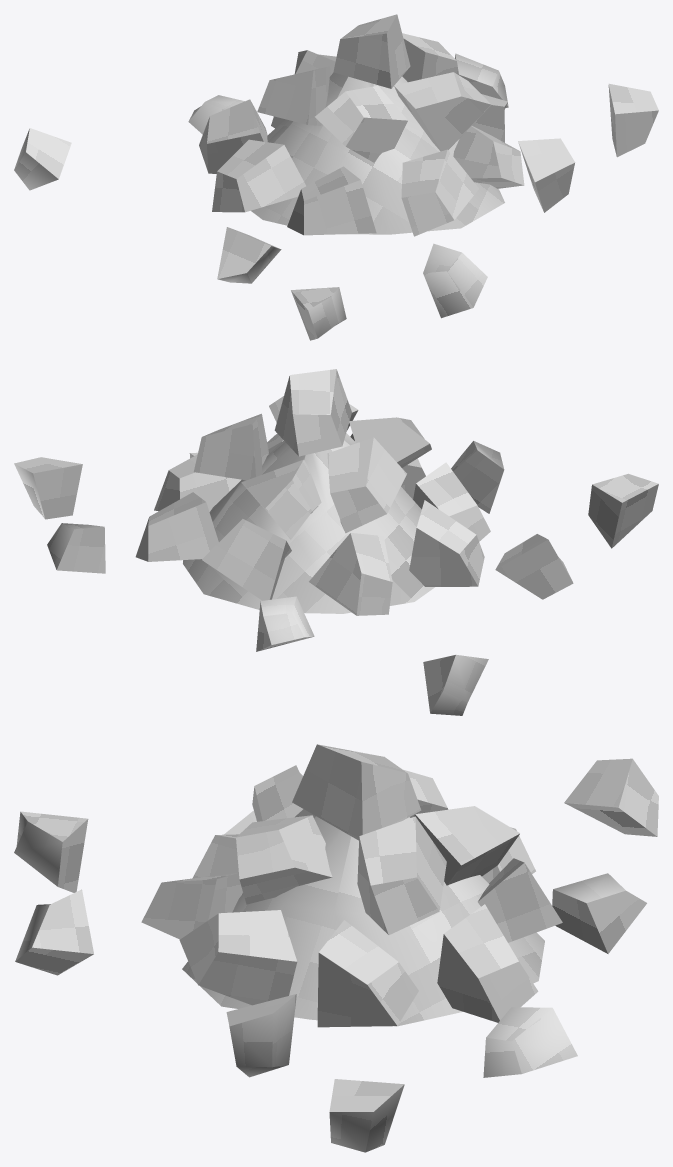
The model's file is ammomaker_Nitre.fbx.
3 views of the same model, one above another, from view 1: azimuth 30°, elevation 25°; view 2: azimuth 150°, elevation 25°; view 3: azimuth 270°, elevation 25° (orthographic). The views are drawn at different scales.
Parts seen in each view (by area): view 1: ammomaker_Nitre; view 2: ammomaker_Nitre; view 3: ammomaker_Nitre.
Part boxes in pixels (x1,y1,x2,y2): ammomaker_Nitre: (14,14,658,340); ammomaker_Nitre: (14,369,658,715); ammomaker_Nitre: (14,744,658,1152).
Size of the model in its own units: 14.49 by 5.15 by 11.57.
